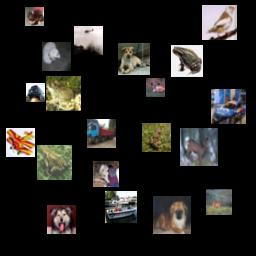airplane: (74, 26, 103, 55), (6, 128, 35, 157)
automobile: (211, 89, 246, 124), (26, 83, 45, 102)
bird: (202, 5, 237, 40)
cat: (25, 7, 44, 26)
deer: (180, 128, 218, 166), (206, 189, 232, 215), (146, 78, 165, 97)
dog: (153, 196, 191, 234), (118, 43, 150, 75), (47, 205, 76, 234), (42, 42, 71, 71)
frog: (37, 145, 72, 180), (46, 76, 81, 111), (171, 45, 203, 77), (142, 123, 171, 152)
ship: (105, 191, 137, 223)
truck: (87, 119, 116, 148)
